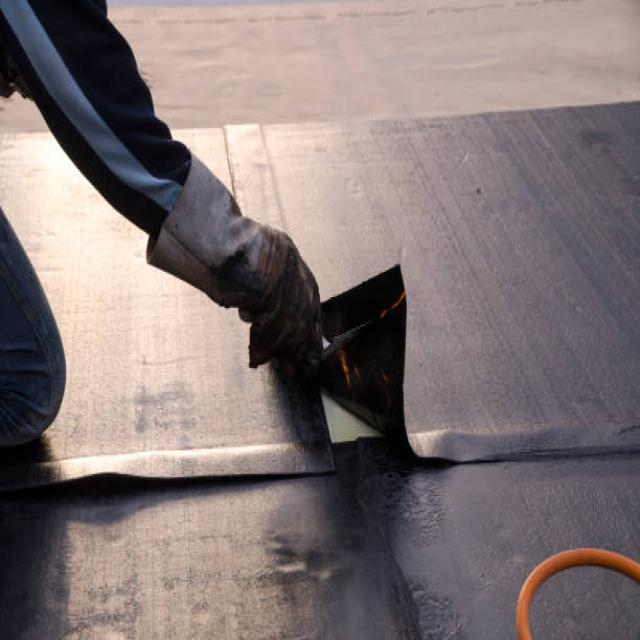gloves: (146, 150, 332, 387)
